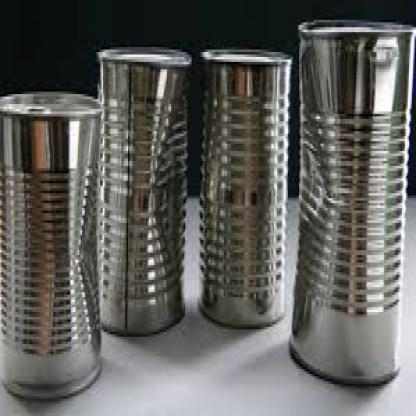METAL: (288, 17, 415, 389), (0, 89, 100, 401), (94, 47, 190, 337), (198, 44, 290, 330)
